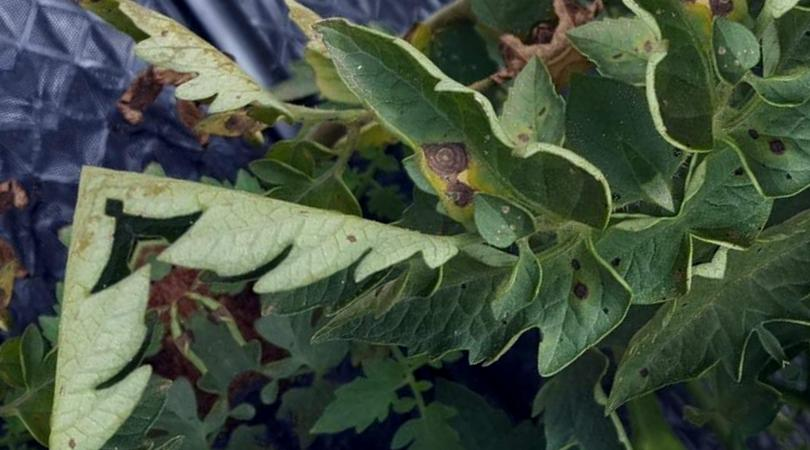Tomato Early blight leaf: (273, 0, 631, 306)
Tomato leaf: (497, 328, 702, 450), (364, 382, 532, 450)
